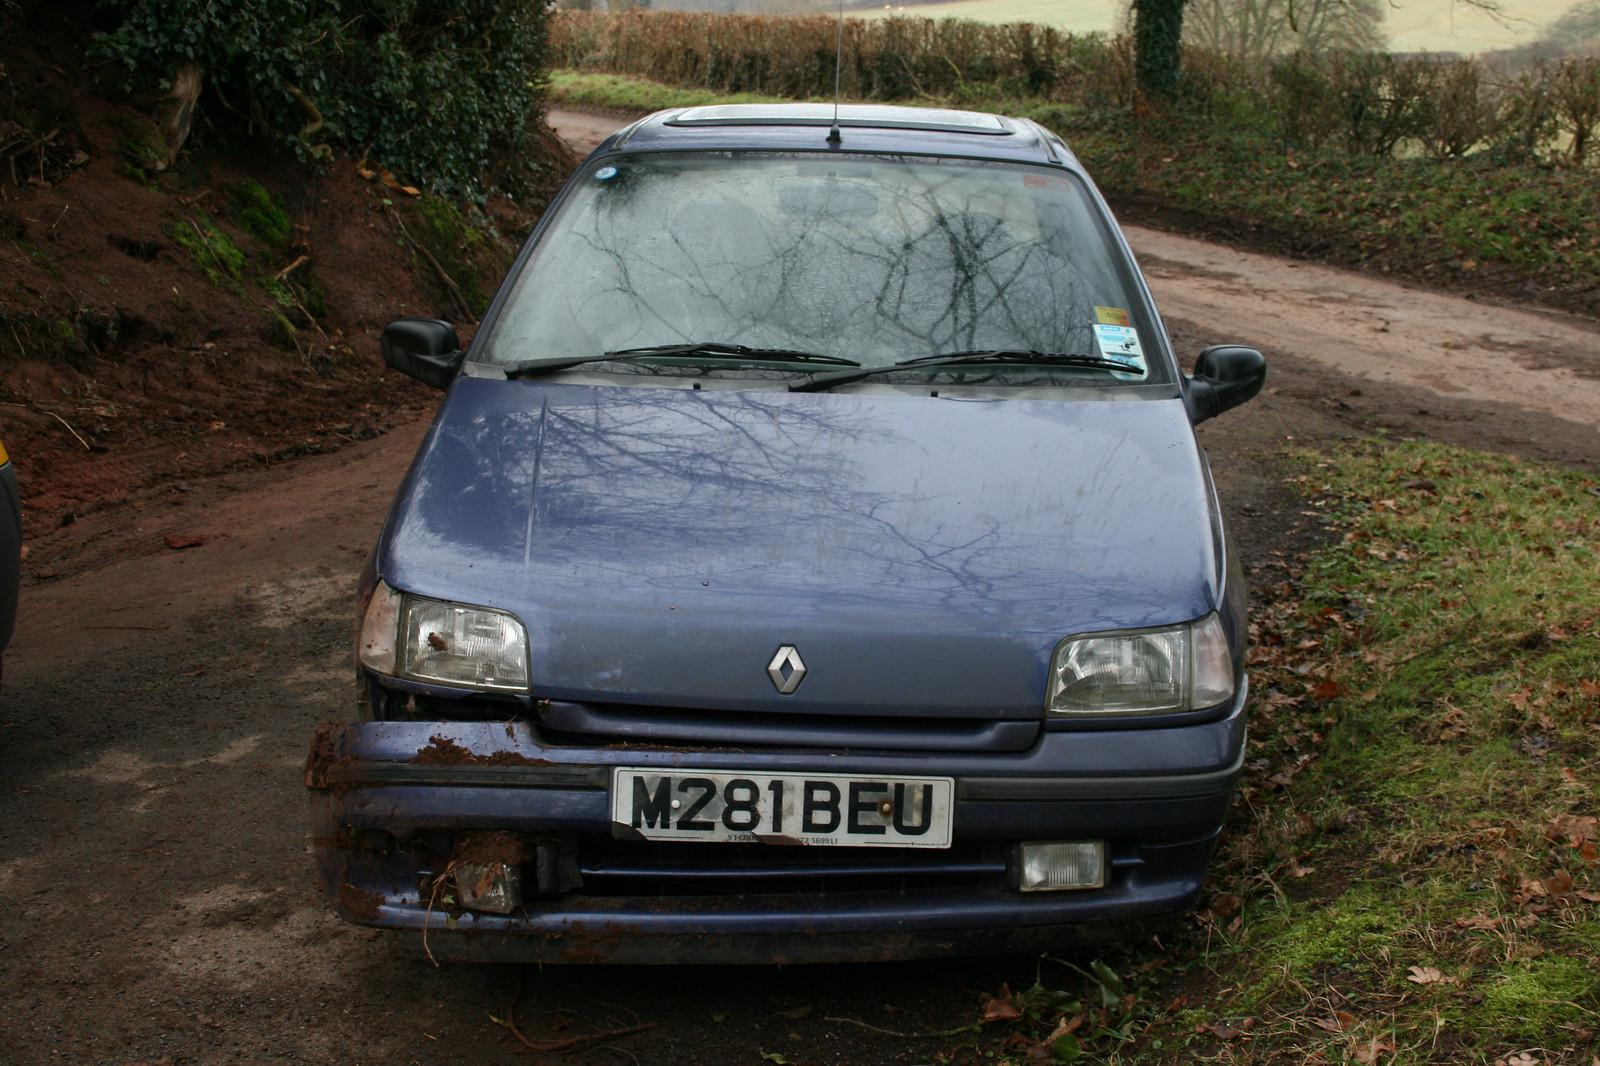front-bumper-dent: (316, 710, 865, 967)
